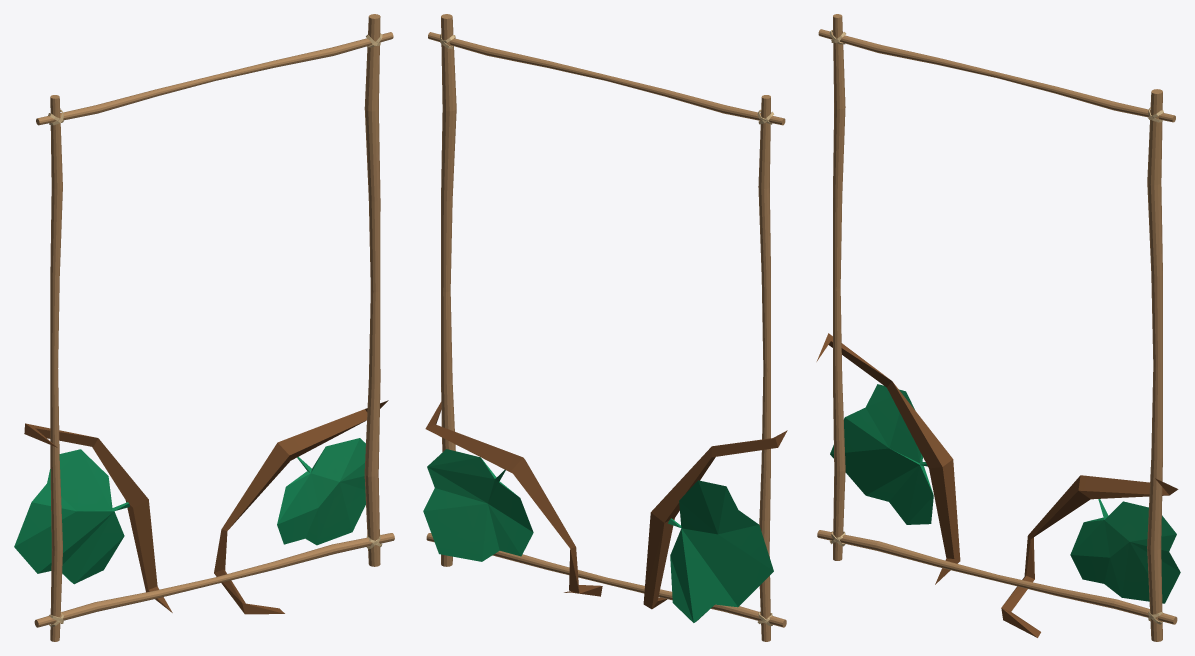
File: mod_bg_CadreCarte_V2.fbx
The picture shows the model from 3 angles, left to right: view 1: azimuth 30°, elevation 25°; view 2: azimuth 150°, elevation 25°; view 3: azimuth 330°, elevation 25°; orthographic projection.
Parts seen in each view (by area): view 1: BGCard_Front, BGCard_Front_V2; view 2: BGCard_Front, BGCard_Front_V2; view 3: BGCard_Front, BGCard_Front_V2.
Part boxes in pixels (x1,y1,x2,y2): BGCard_Front: [14, 400, 388, 614]; BGCard_Front_V2: [34, 14, 394, 641]; BGCard_Front: [423, 402, 787, 622]; BGCard_Front_V2: [426, 14, 786, 641]; BGCard_Front: [816, 333, 1180, 637]; BGCard_Front_V2: [817, 14, 1177, 641].
Size of the model in its own units: 33.41 by 49.46 by 6.97.
